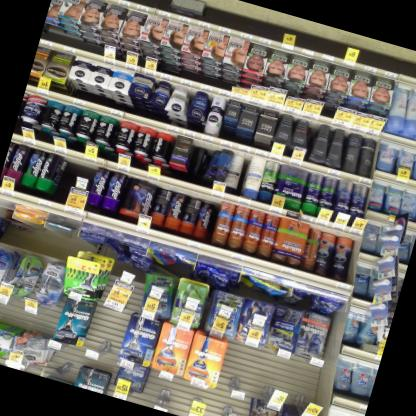empty_space: (36, 213, 77, 262), (57, 157, 96, 192)
